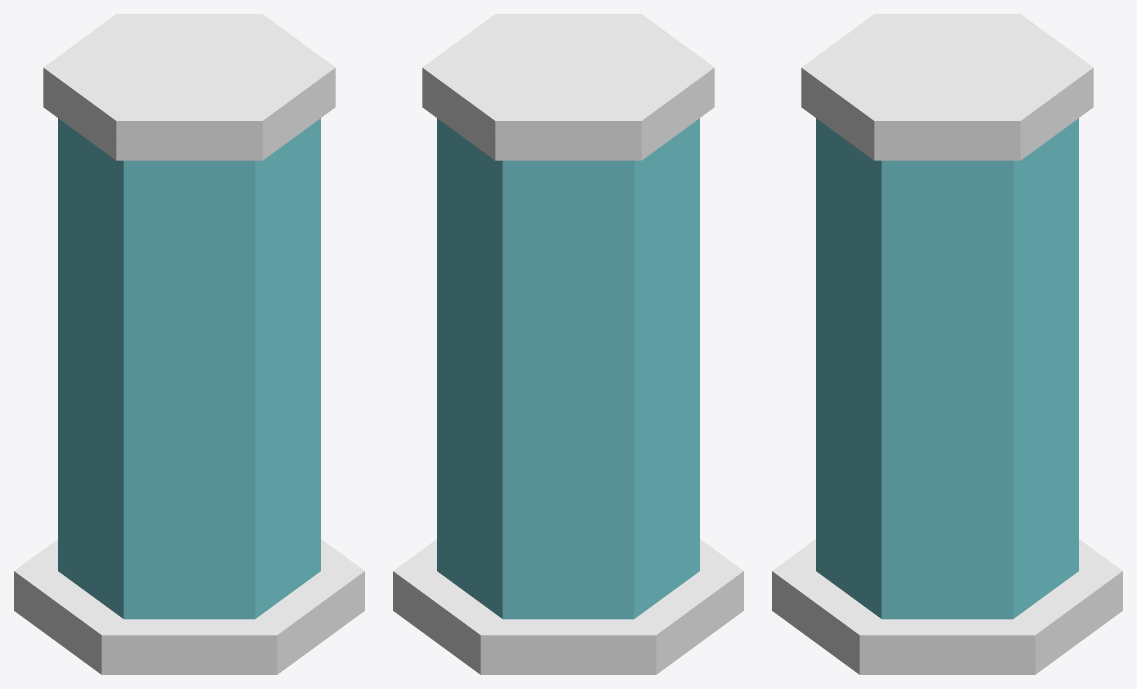
Rendered from glass-tower.glb.
3 views of the same model, side by side, from view 1: azimuth 30°, elevation 25°; view 2: azimuth 150°, elevation 25°; view 3: azimuth 270°, elevation 25° (orthographic).
Parts seen in each view (by area): view 1: lab-glass-tower; view 2: lab-glass-tower; view 3: lab-glass-tower.
Boxes of the visible parts, x1,y1,x2,y2 form: lab-glass-tower: (14,14,364,674); lab-glass-tower: (393,14,743,674); lab-glass-tower: (772,14,1122,674).
Bounding box in the file's own units: 0.4157 × 0.82 × 0.48.
